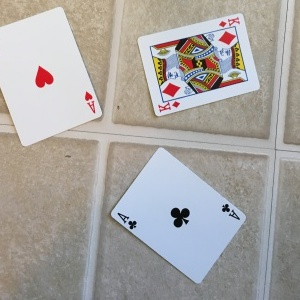card: (110, 146, 246, 284), (136, 12, 261, 117)
